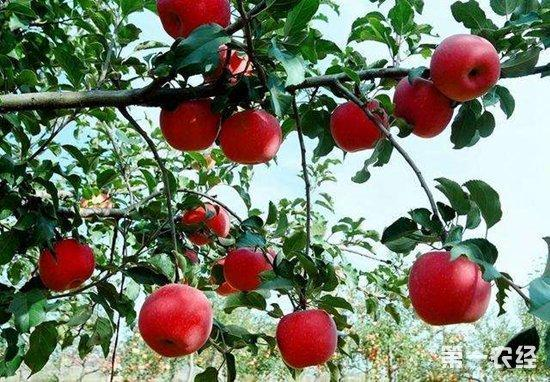apple: (406, 248, 491, 326), (136, 283, 212, 358), (430, 32, 500, 101), (393, 74, 455, 139), (274, 309, 337, 370), (218, 109, 280, 164), (37, 235, 94, 294), (158, 99, 218, 153), (326, 100, 385, 154), (156, 1, 235, 40), (224, 243, 274, 294)
